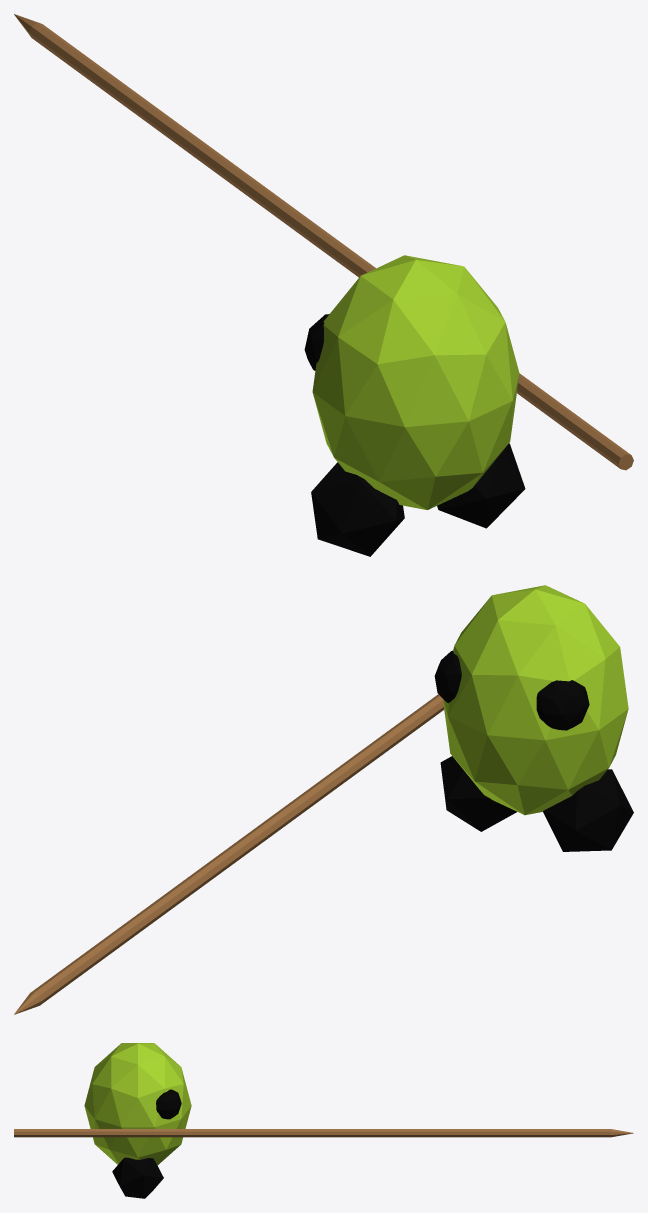
Rendered from stab.f0007.glb.
3 renders of one model, top to bottom at view 1: azimuth 30°, elevation 25°; view 2: azimuth 150°, elevation 25°; view 3: azimuth 270°, elevation 25°, orthographic. The views are drawn at different scales.
Parts seen in each view (by area): view 1: Body.001; view 2: Body.001; view 3: Body.001.
Part boxes in pixels (<box>): Body.001: <box>14,14,633,556</box>; Body.001: <box>14,585,633,1014</box>; Body.001: <box>14,1043,633,1198</box>.
Bounding box in the file's own units: 2.17 × 2.85 × 11.56.
Materials: 1 (1 with a texture image).
